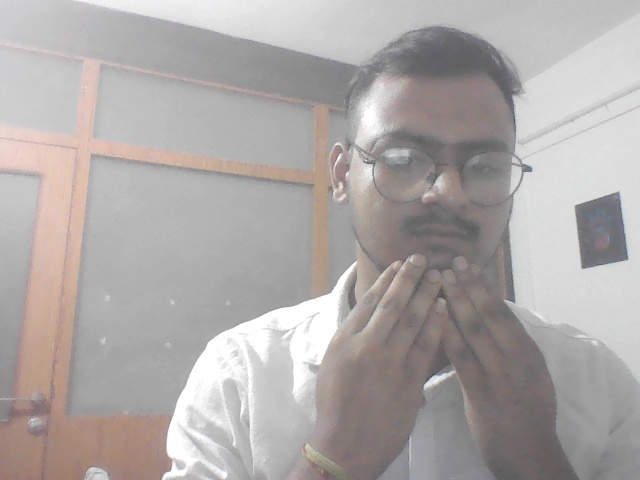ThankYou: (305, 252, 575, 472)
